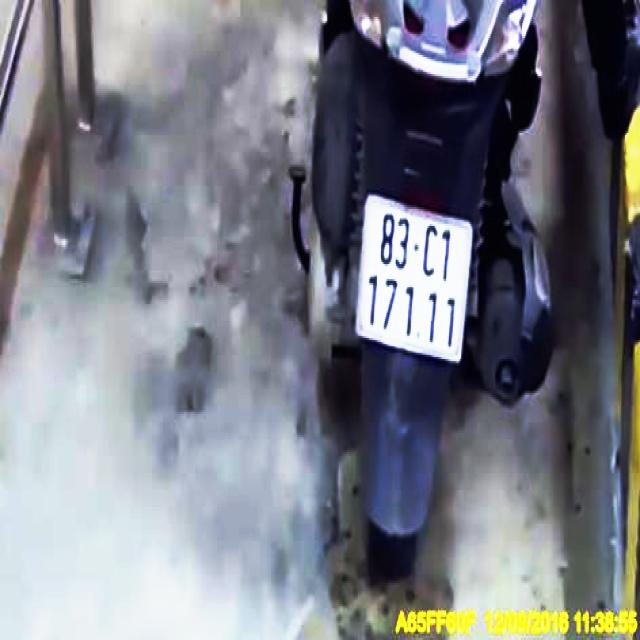license_plate: (359, 198, 470, 358)
